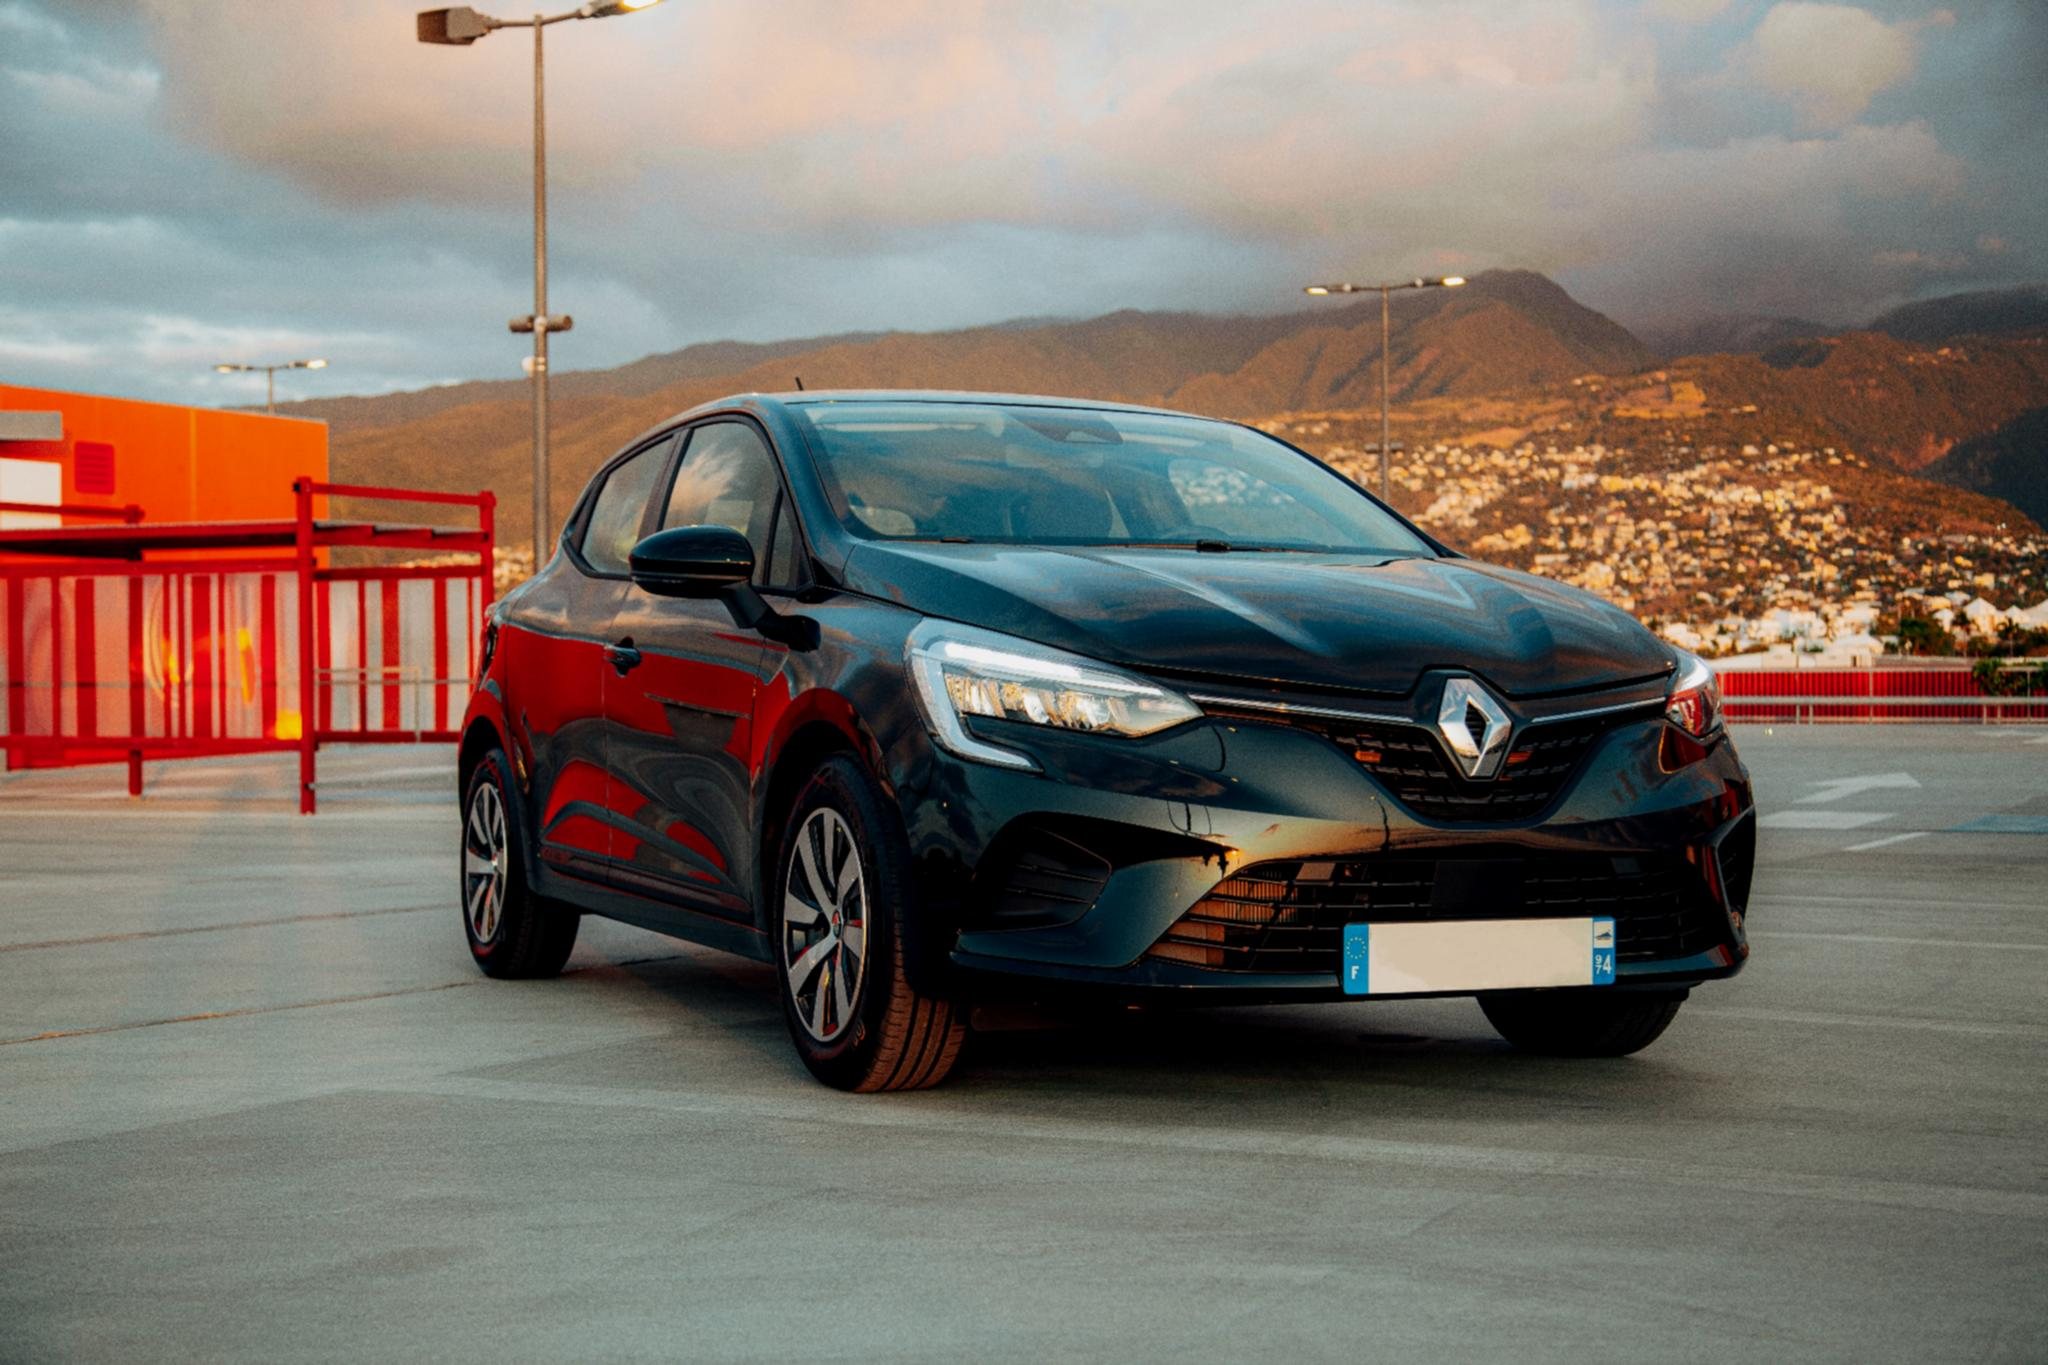Renault: (1404, 640, 1536, 795)
